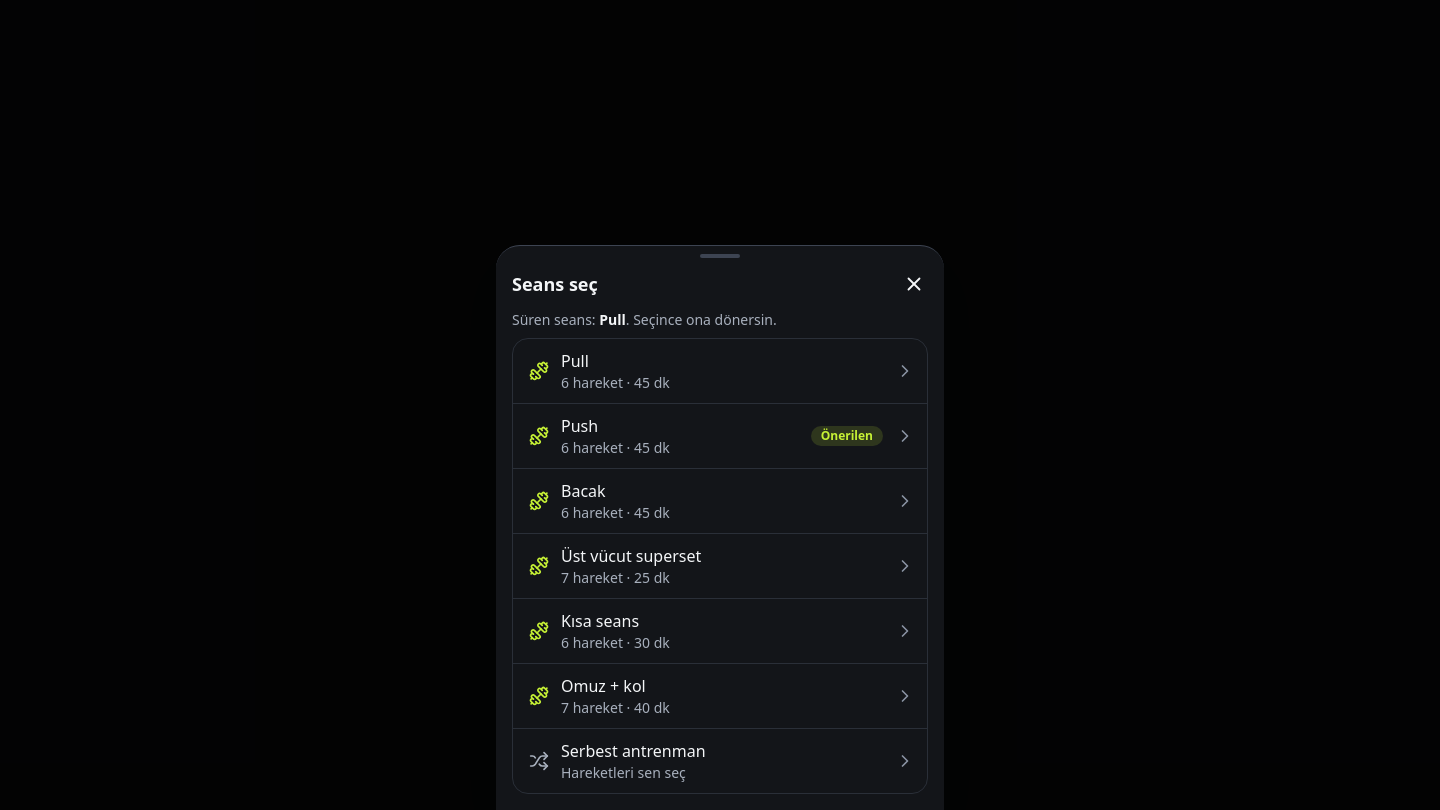
Test: starting while a session runs › resumes the running session instead of starting a second one
Click the button "Push 6 hareket · 45 dk Önerilen". click: (580, 426)
box: [513,404,927,468]
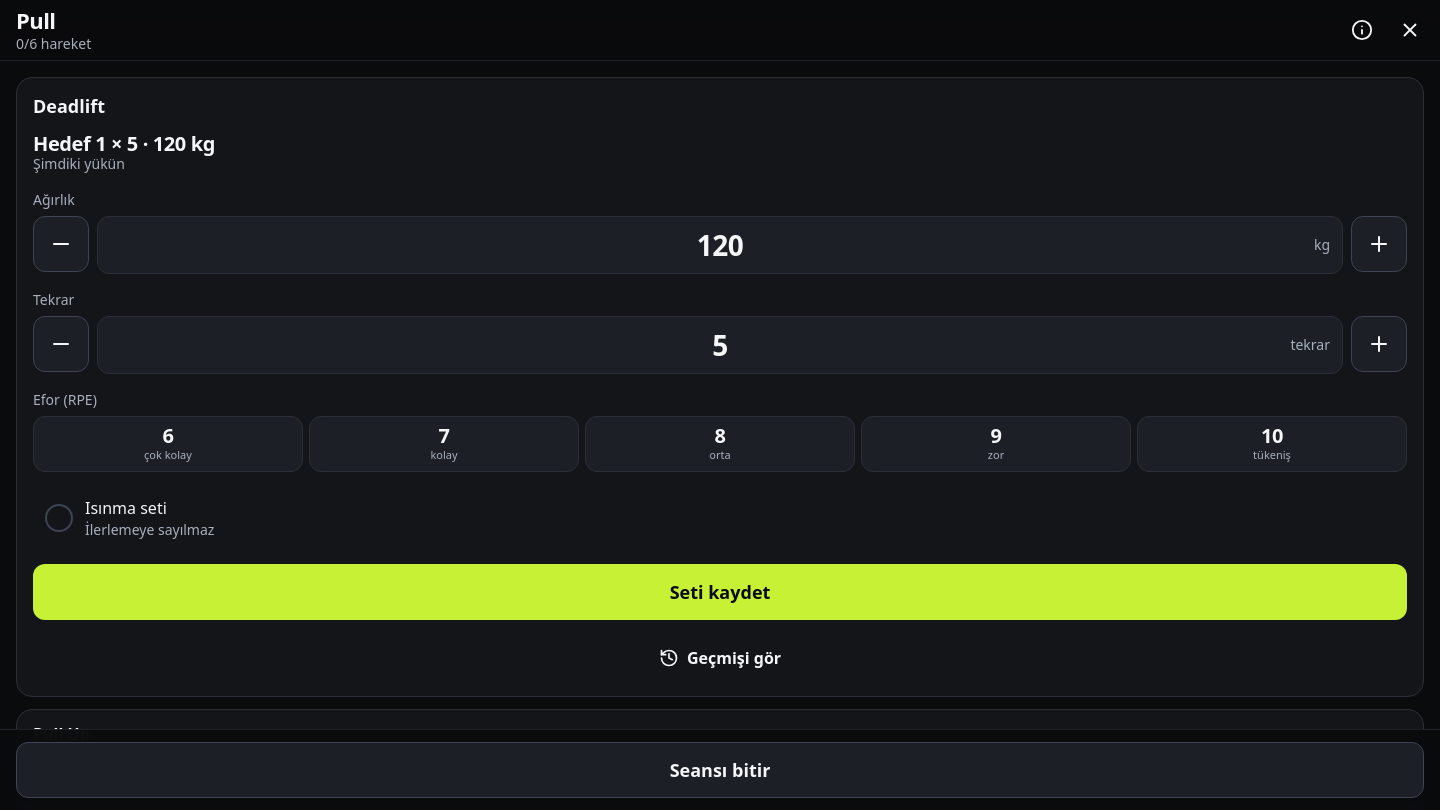
Now the heading "Pull" is shown, box [16,5,56,35]
